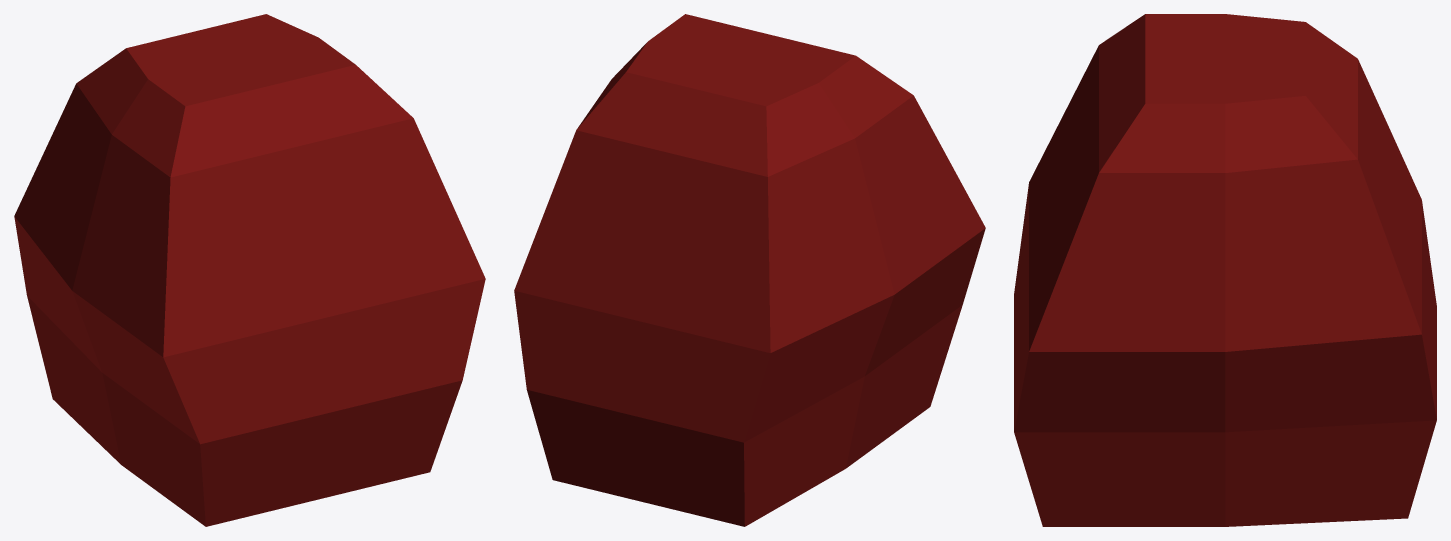
The model's file is Body.obj.
3 renders of one model, left to right at view 1: azimuth 30°, elevation 25°; view 2: azimuth 150°, elevation 25°; view 3: azimuth 270°, elevation 25°, orthographic. The views are drawn at different scales.
Parts seen in each view (by area): view 1: TaiwanBear; view 2: TaiwanBear; view 3: TaiwanBear.
Part boxes in pixels (left/top/right/bottom): TaiwanBear: left=14, top=14, right=485, bottom=526; TaiwanBear: left=514, top=14, right=985, bottom=526; TaiwanBear: left=1014, top=14, right=1436, bottom=526.
Size of the model in its own units: 0.2881 by 0.3239 by 0.3035.
